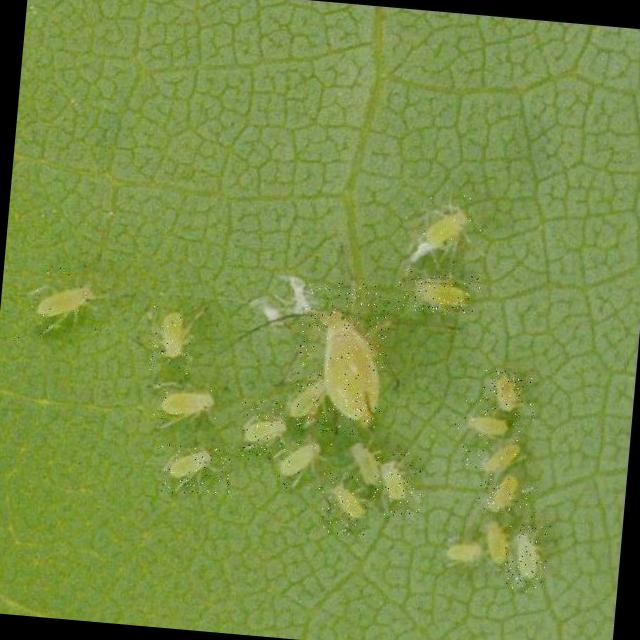aphid: (294, 276, 394, 434), (404, 186, 490, 274), (18, 260, 104, 347), (156, 442, 236, 498), (398, 266, 482, 316), (152, 371, 224, 426), (452, 396, 534, 442), (150, 294, 198, 372), (317, 467, 372, 535), (372, 448, 426, 516), (502, 520, 552, 592), (426, 522, 488, 580), (462, 422, 528, 475), (277, 435, 333, 494), (478, 365, 538, 418), (241, 398, 288, 460), (476, 474, 538, 516)
